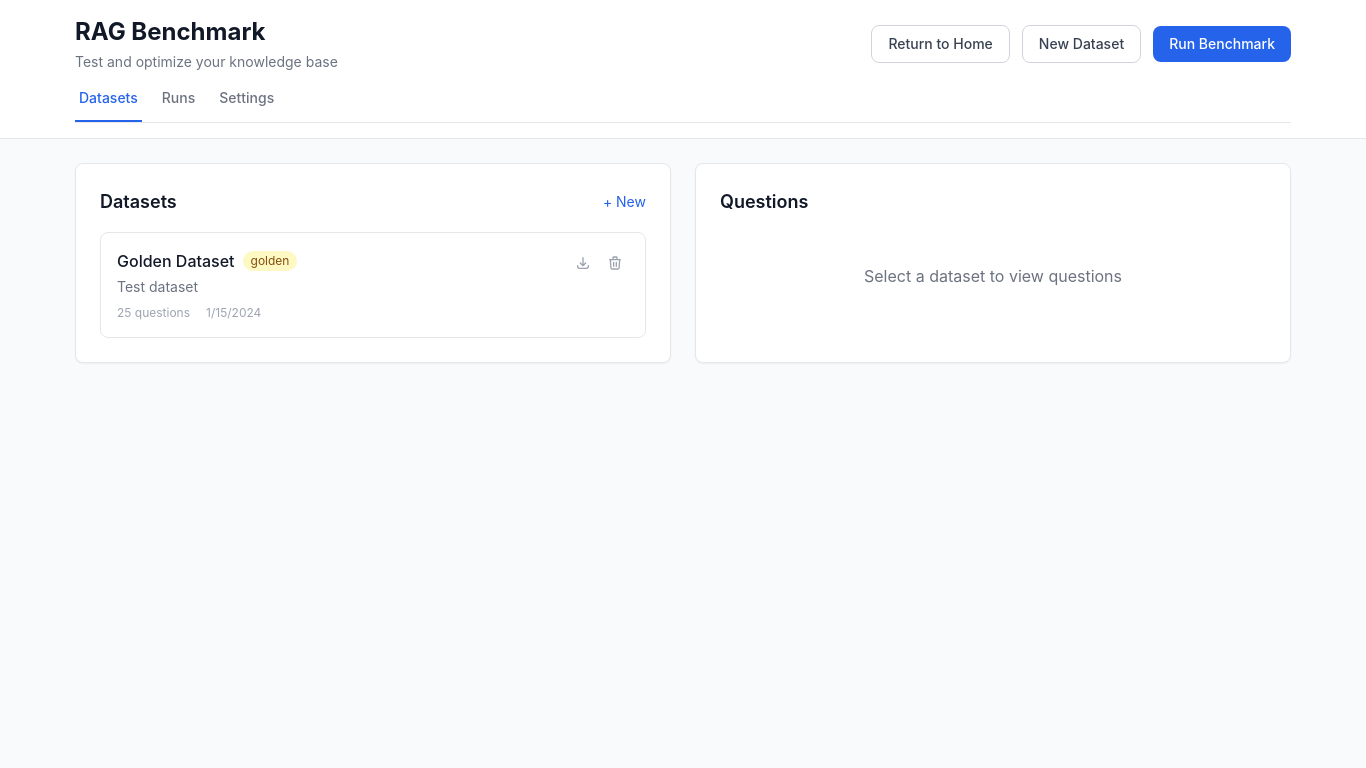
Test: BenchmarkDashboard › opens create run modal
This screenshot has width=1366, height=768.
Click the button "Run Benchmark": (1222, 44) [1153, 26, 1291, 62]
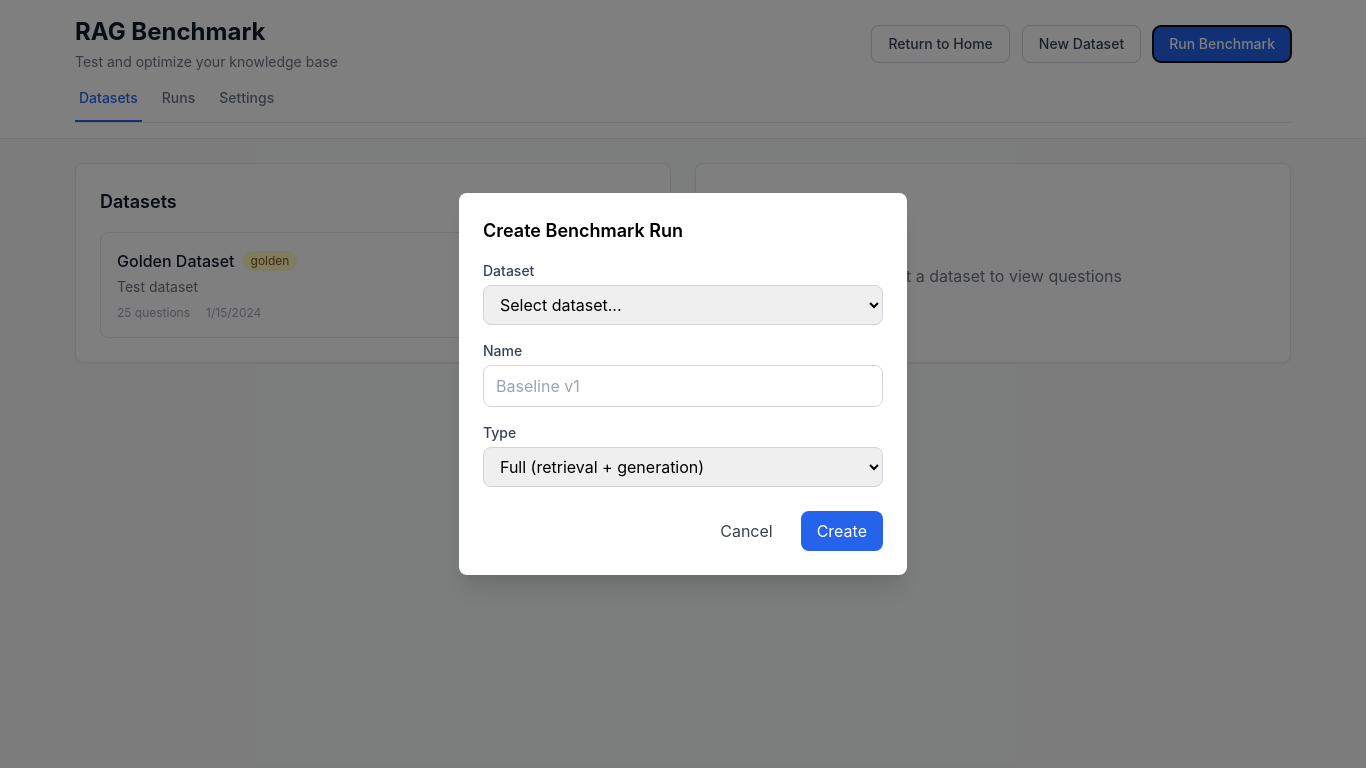
expect the heading "Create Benchmark Run" is shown: met, box [483, 220, 683, 241]
